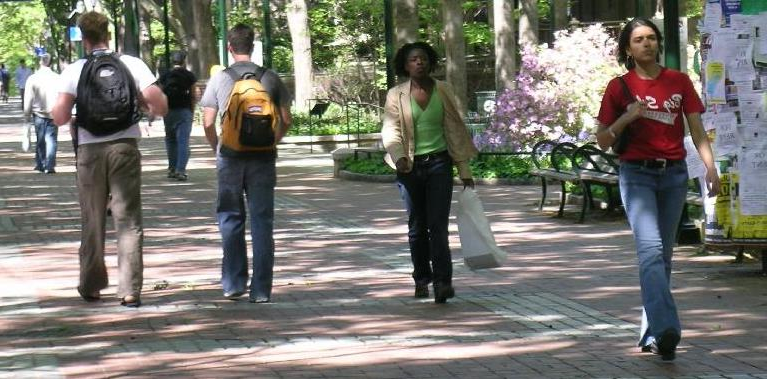pedestrian: (596, 18, 719, 361), (51, 12, 167, 306), (200, 24, 292, 302), (381, 43, 476, 305), (155, 52, 201, 180), (23, 52, 59, 174)
